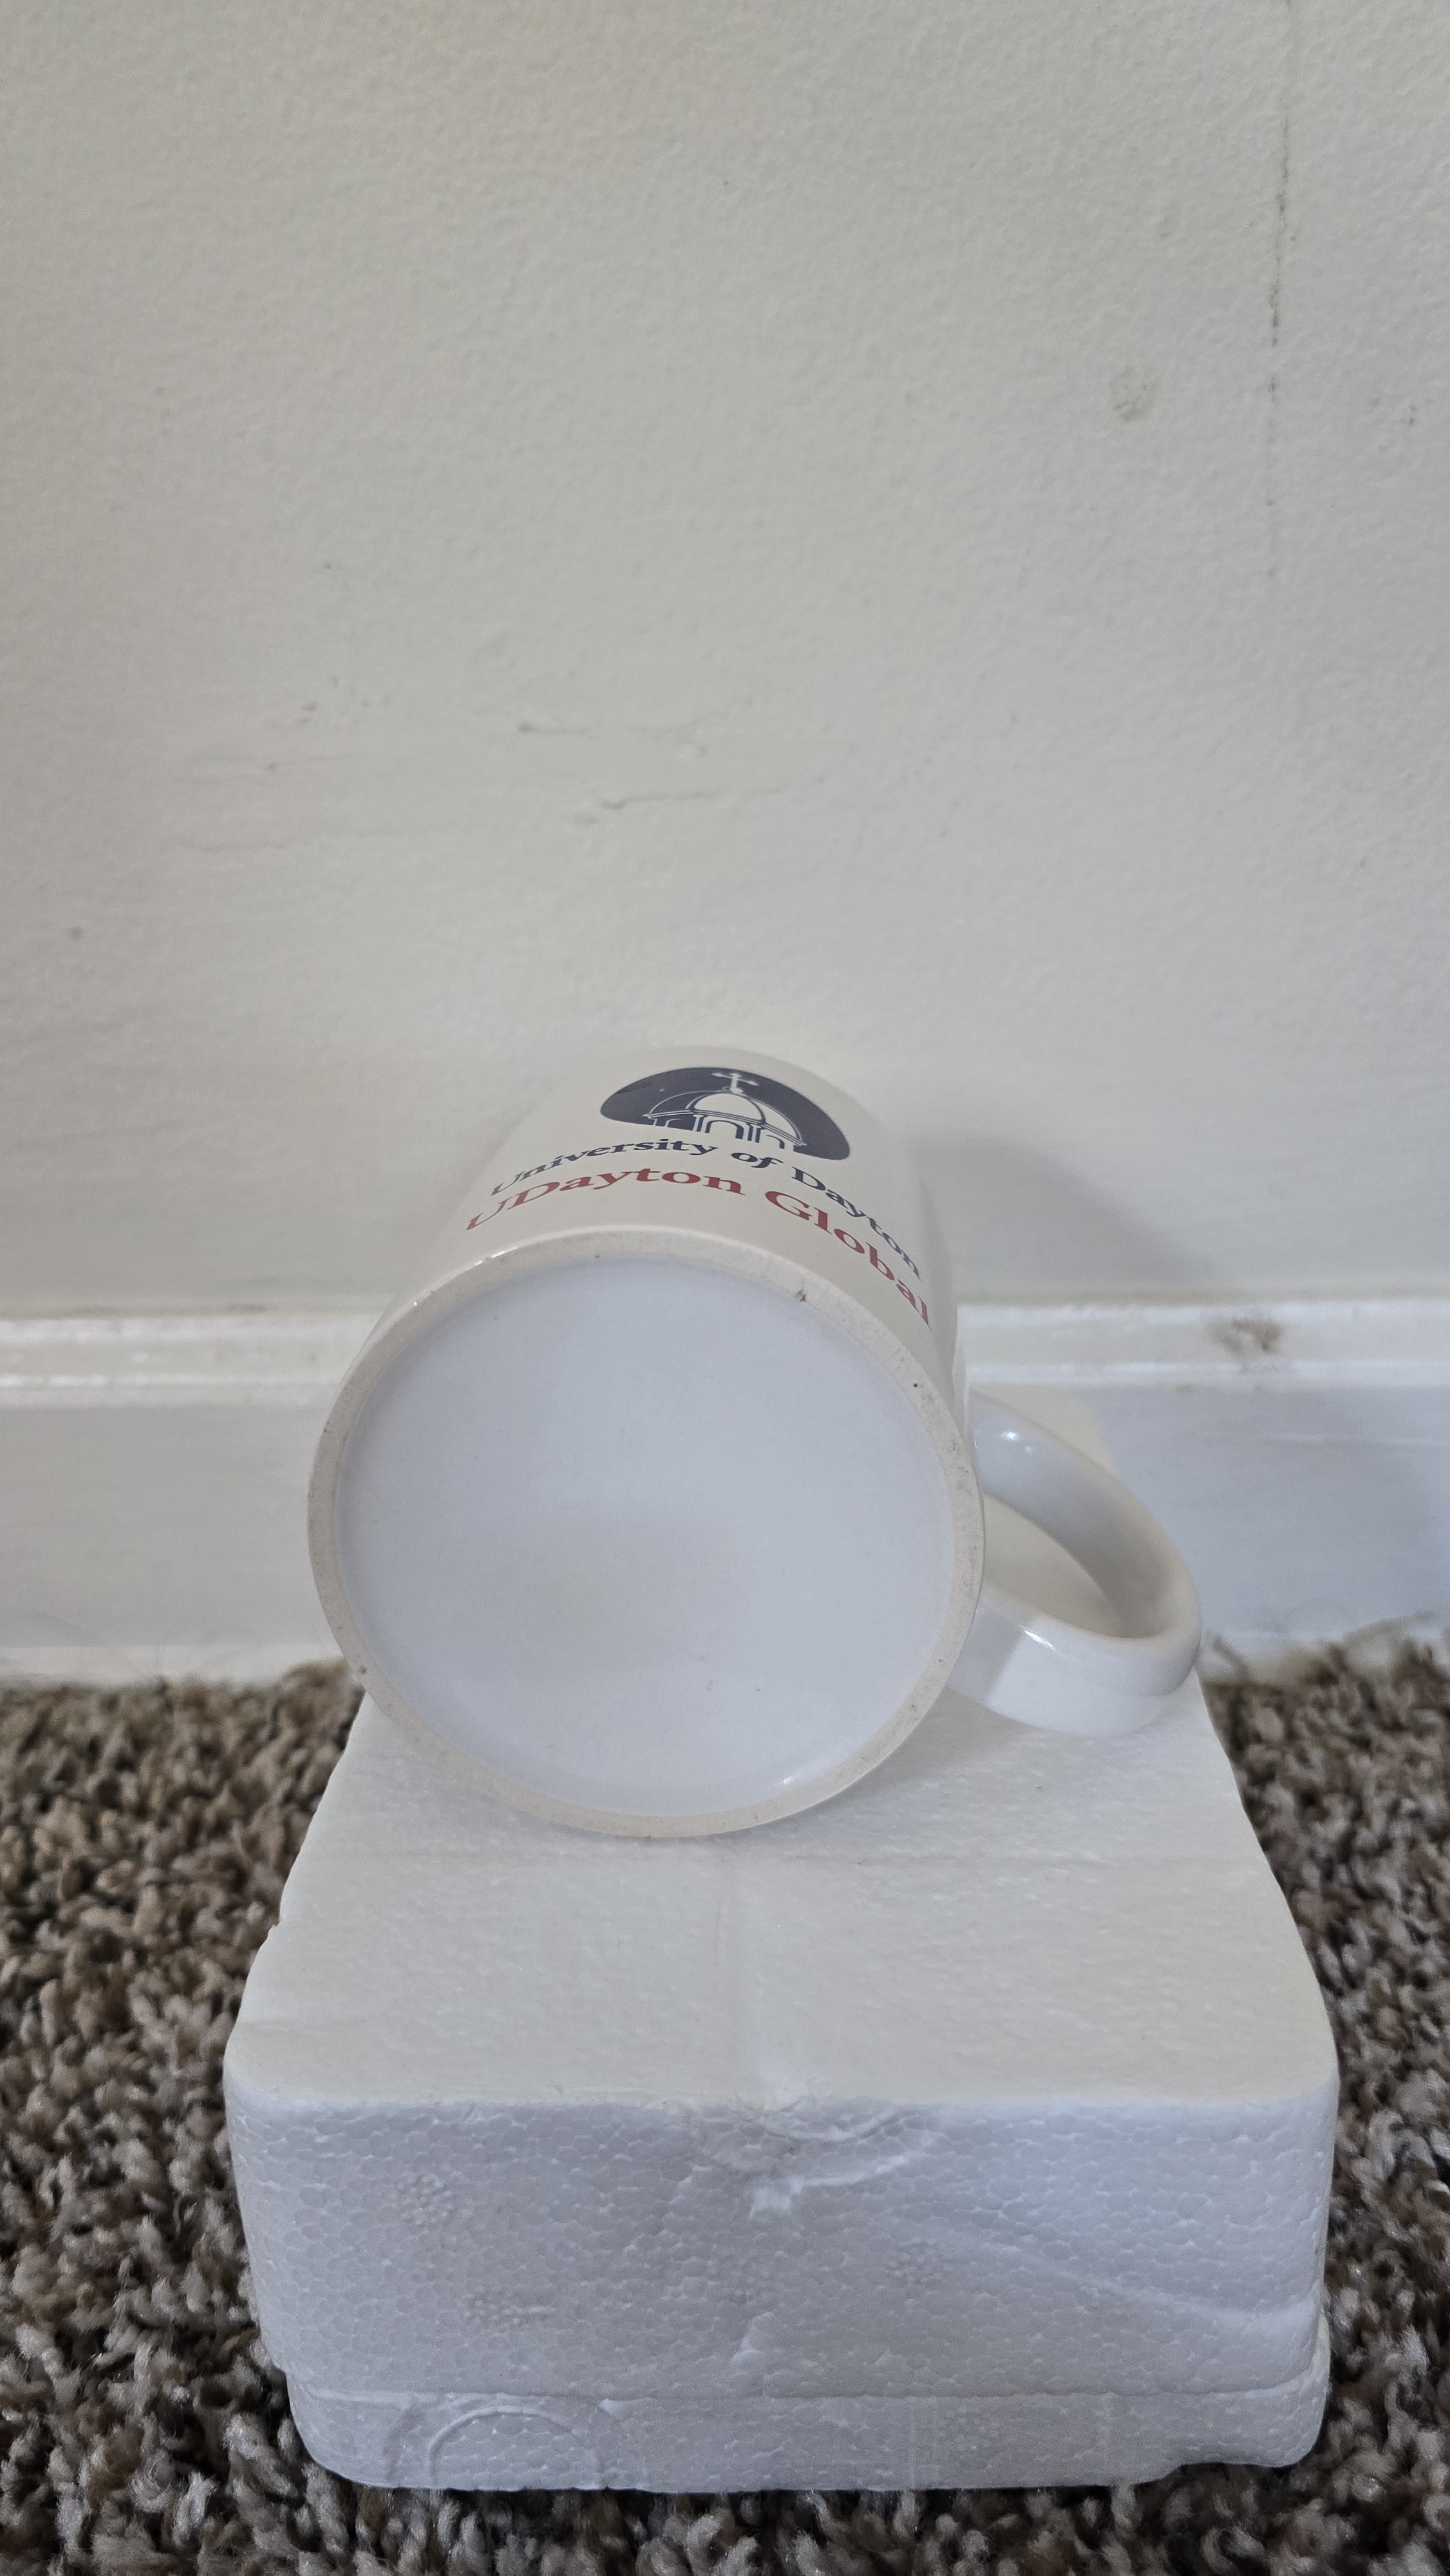mug: (309, 989, 1238, 1854)
